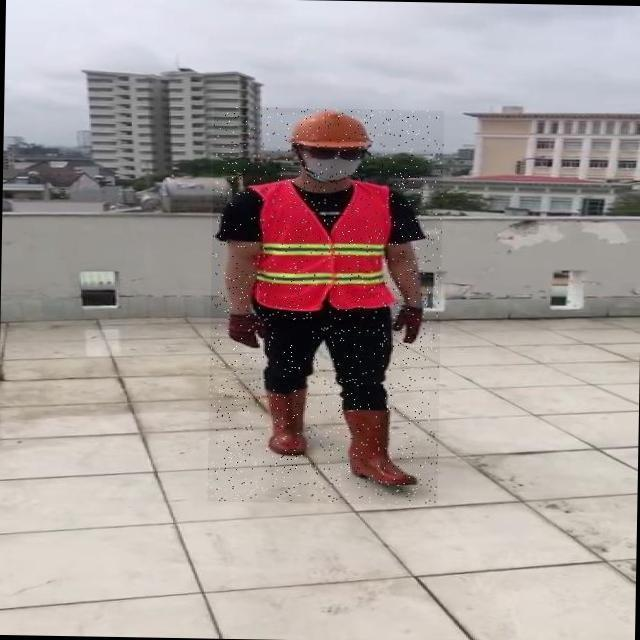Helmet: (281, 107, 380, 155)
Human: (207, 106, 444, 505)
Safety Boot: (339, 407, 417, 486), (259, 387, 310, 458)
Safety Vest: (253, 181, 396, 311)
